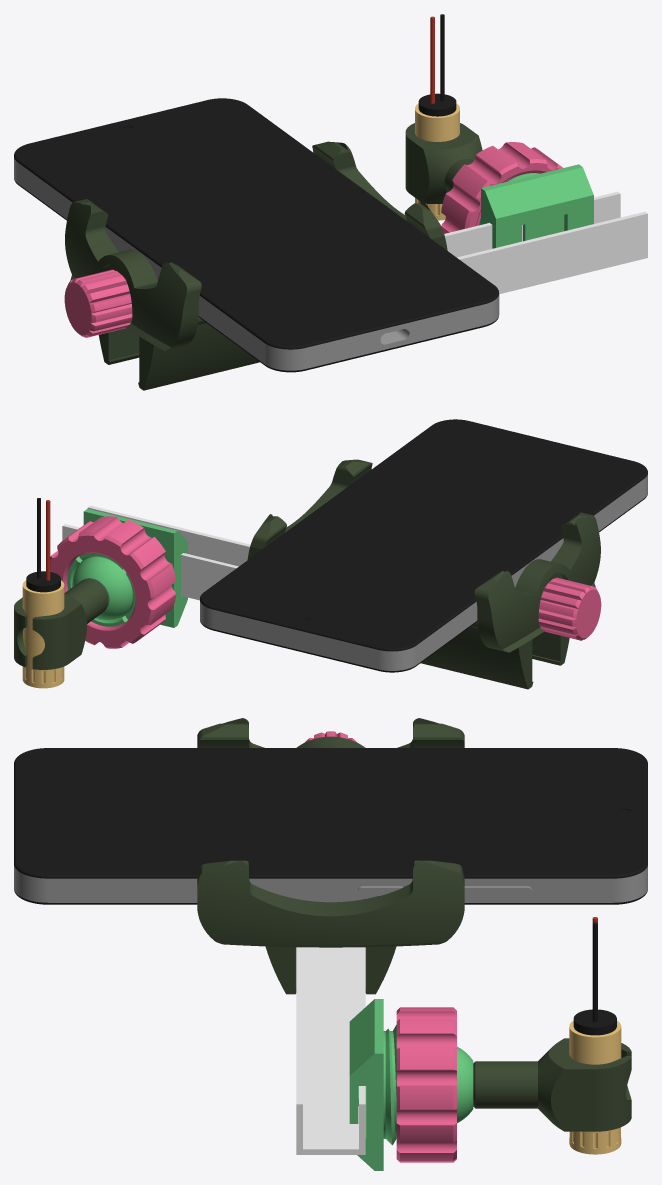
Rendered from easy_scanner.glb.
The picture shows the model from 3 angles, top to bottom: view 1: azimuth 30°, elevation 25°; view 2: azimuth 150°, elevation 25°; view 3: azimuth 270°, elevation 25°; orthographic projection. The views are drawn at different scales.
Parts seen in each view (by area): view 1: S24 body 03, Phone Clamp Lower, Profile 16x13 U, S24 body 01, Laser Mount Clip, Laser Mount Nut, Laser Clamp, Phone Clamp Knurled Head, Phone Clamp Upper, Laser body 01, S24 body 02, Laser body 04; view 2: S24 body 03, Phone Clamp Lower, Laser Mount Nut, S24 body 01, Laser Clamp, Profile 16x13 U, Phone Clamp Knurled Head, Laser Mount Clip, Phone Clamp Upper, Laser Mount Ball, Laser body 01, Laser body 02 (+3 smaller); view 3: S24 body 03, Phone Clamp Upper, Profile 16x13 U, S24 body 01, Laser Clamp, Laser Mount Nut, Laser Mount Clip, Phone Clamp Lower, Laser body 01, Laser body 02, Laser Mount Ball, Laser body 04 (+2 smaller).
Boxes of the visible parts, x1,y1,x2,y2 form: S24 body 03: [14, 98, 498, 349]; Phone Clamp Lower: [65, 199, 259, 390]; Profile 16x13 U: [444, 191, 647, 294]; S24 body 01: [14, 158, 499, 370]; Laser Mount Clip: [479, 164, 593, 248]; Laser Mount Nut: [441, 142, 562, 233]; Laser Clamp: [405, 123, 482, 203]; Phone Clamp Knurled Head: [64, 269, 132, 337]; Phone Clamp Upper: [312, 141, 447, 250]; Laser body 01: [415, 103, 459, 141]; S24 body 02: [14, 179, 498, 372]; Laser body 04: [418, 93, 456, 116]; S24 body 03: [200, 419, 647, 651]; Phone Clamp Lower: [421, 512, 600, 689]; Laser Mount Nut: [50, 516, 176, 648]; S24 body 01: [200, 474, 647, 670]; Laser Clamp: [14, 579, 108, 669]; Profile 16x13 U: [62, 505, 250, 600]; Phone Clamp Knurled Head: [538, 577, 601, 640]; Laser Mount Clip: [67, 509, 187, 627]; Phone Clamp Upper: [247, 459, 372, 559]; Laser Mount Ball: [72, 556, 132, 620]; Laser body 01: [22, 580, 64, 667]; Laser body 02: [22, 666, 64, 688]; S24 body 03: [14, 748, 647, 878]; Phone Clamp Upper: [197, 860, 464, 947]; Profile 16x13 U: [296, 947, 365, 1154]; S24 body 01: [14, 865, 647, 902]; Laser Clamp: [473, 1038, 631, 1131]; Laser Mount Nut: [396, 1007, 456, 1162]; Laser Mount Clip: [349, 999, 396, 1170]; Phone Clamp Lower: [197, 718, 464, 994]; Laser body 01: [569, 1020, 621, 1064]; Laser body 02: [569, 1127, 621, 1154]; Laser Mount Ball: [457, 1046, 473, 1123]; Laser body 04: [573, 1009, 616, 1035].
Bounding box in the file's own units: 0.17 × 0.0599 × 0.147.
